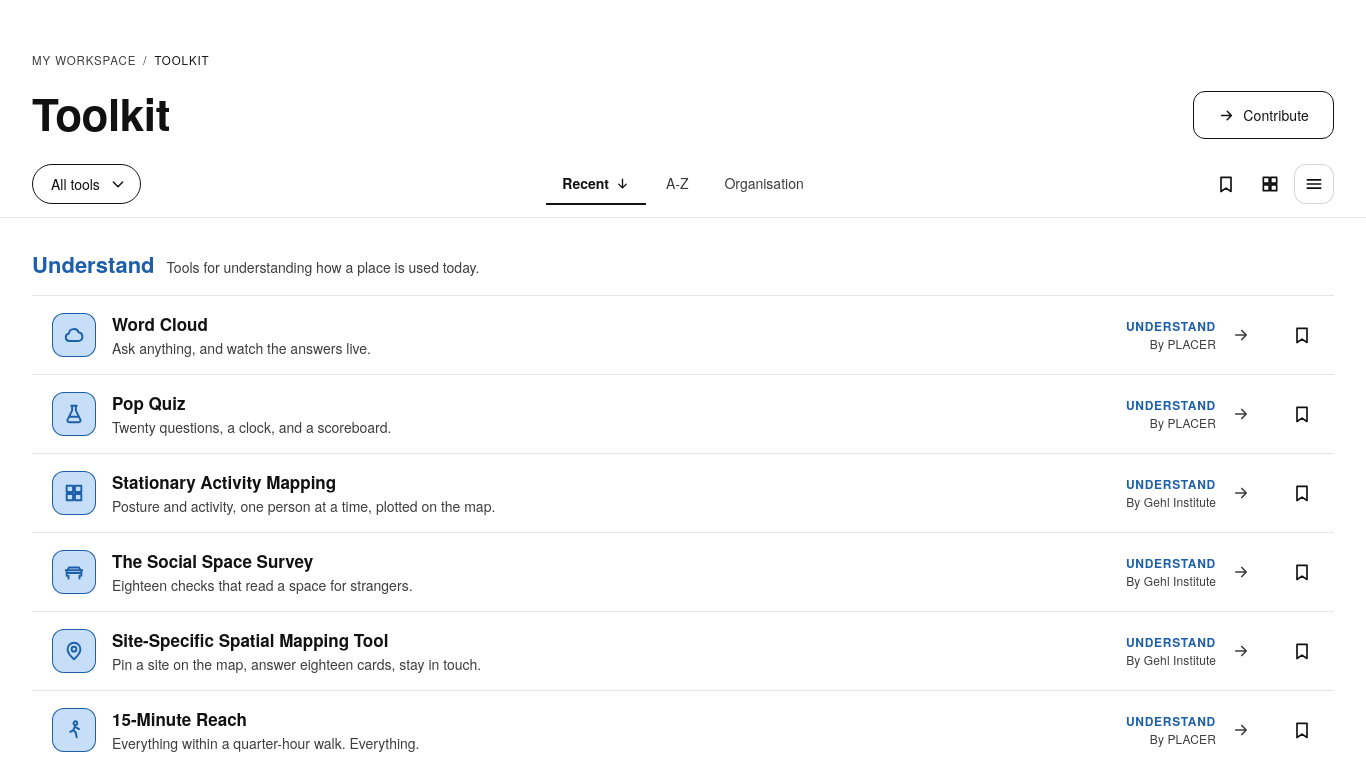
Test case: the gallery › says how to add a favourite when there are none
Check: the heading "Toolkit" is shown, box [32,87,170,139]
Click the button named "Favourites" at coordinates (1226, 184), box [1206,164,1246,204]
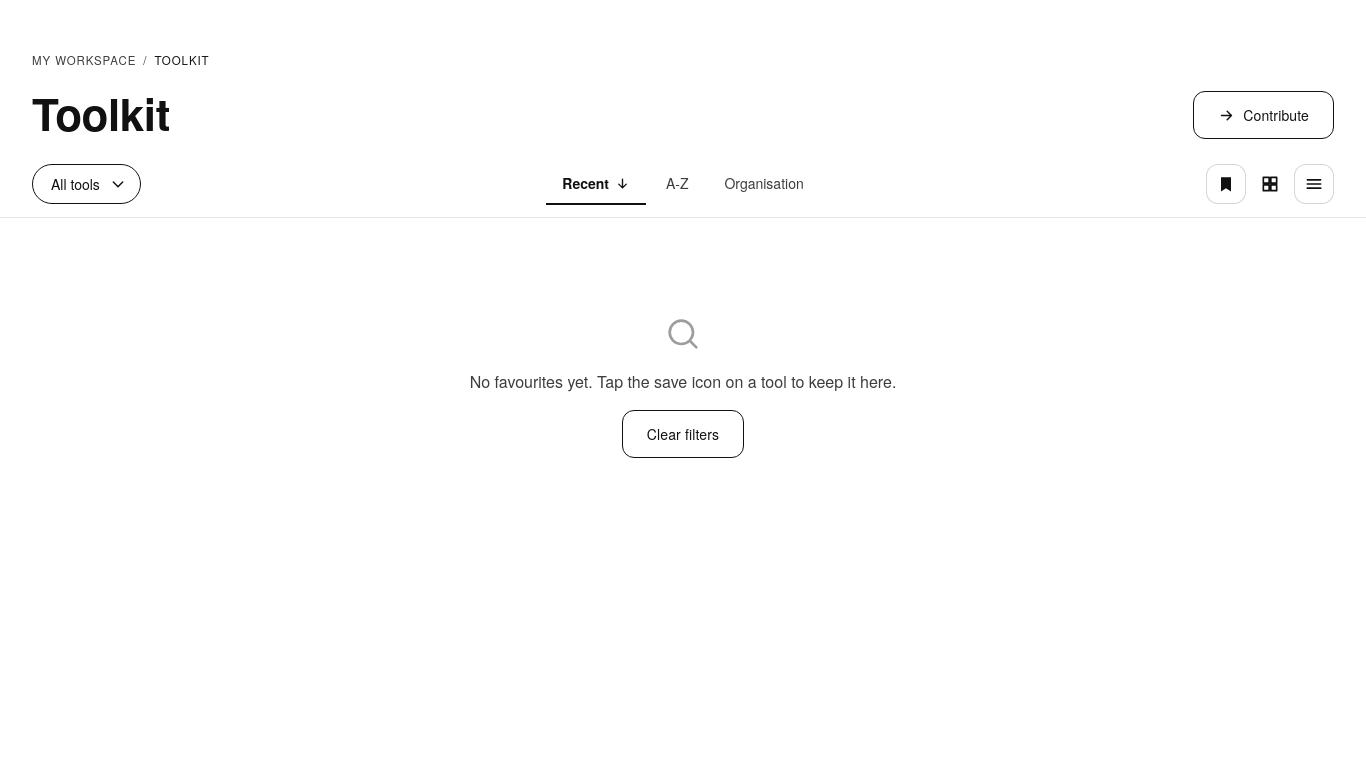
Check: the text "No favourites yet" is shown, box [470,370,896,393]
